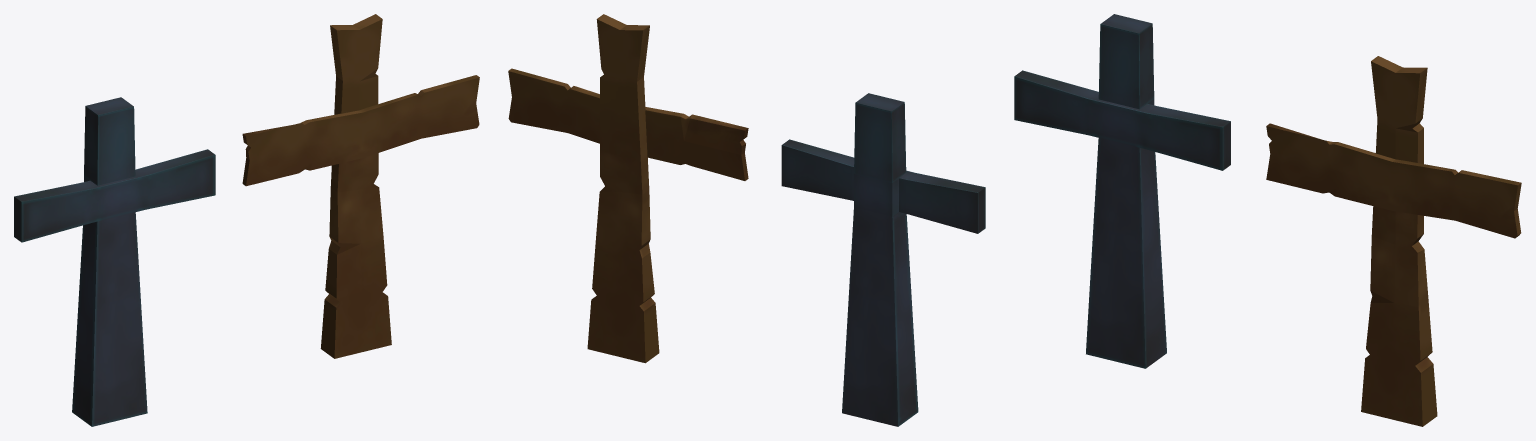
Rendered from Sepultura.fbx.
The picture shows the model from 3 angles, left to right: view 1: azimuth 30°, elevation 25°; view 2: azimuth 150°, elevation 25°; view 3: azimuth 330°, elevation 25°; orthographic projection. The views are drawn at different scales.
Parts seen in each view (by area): view 1: SepulturaMadeira, SepulturaPedra; view 2: SepulturaMadeira, SepulturaPedra; view 3: SepulturaMadeira, SepulturaPedra.
Part boxes in pixels (x1=…): SepulturaMadeira: x1=242, y1=14, x2=479, y2=358; SepulturaPedra: x1=14, y1=97, x2=215, y2=426; SepulturaMadeira: x1=508, y1=14, x2=748, y2=363; SepulturaPedra: x1=781, y1=93, x2=985, y2=426; SepulturaMadeira: x1=1266, y1=56, x2=1521, y2=426; SepulturaPedra: x1=1014, y1=14, x2=1230, y2=368.
Size of the model in its own units: 137 by 92.69 by 10.45.
